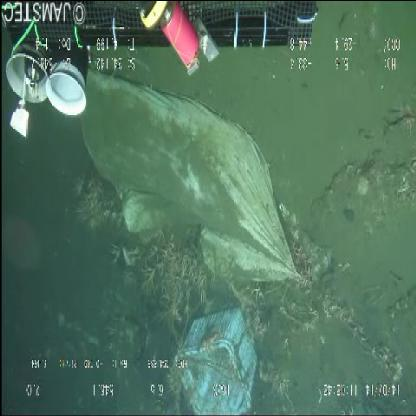Rov: (0, 1, 324, 156)
Rác: (167, 302, 257, 414)
